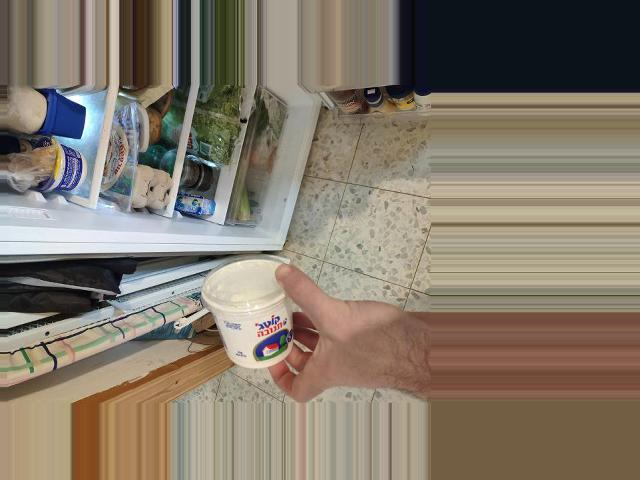cotage: (198, 253, 308, 372)
